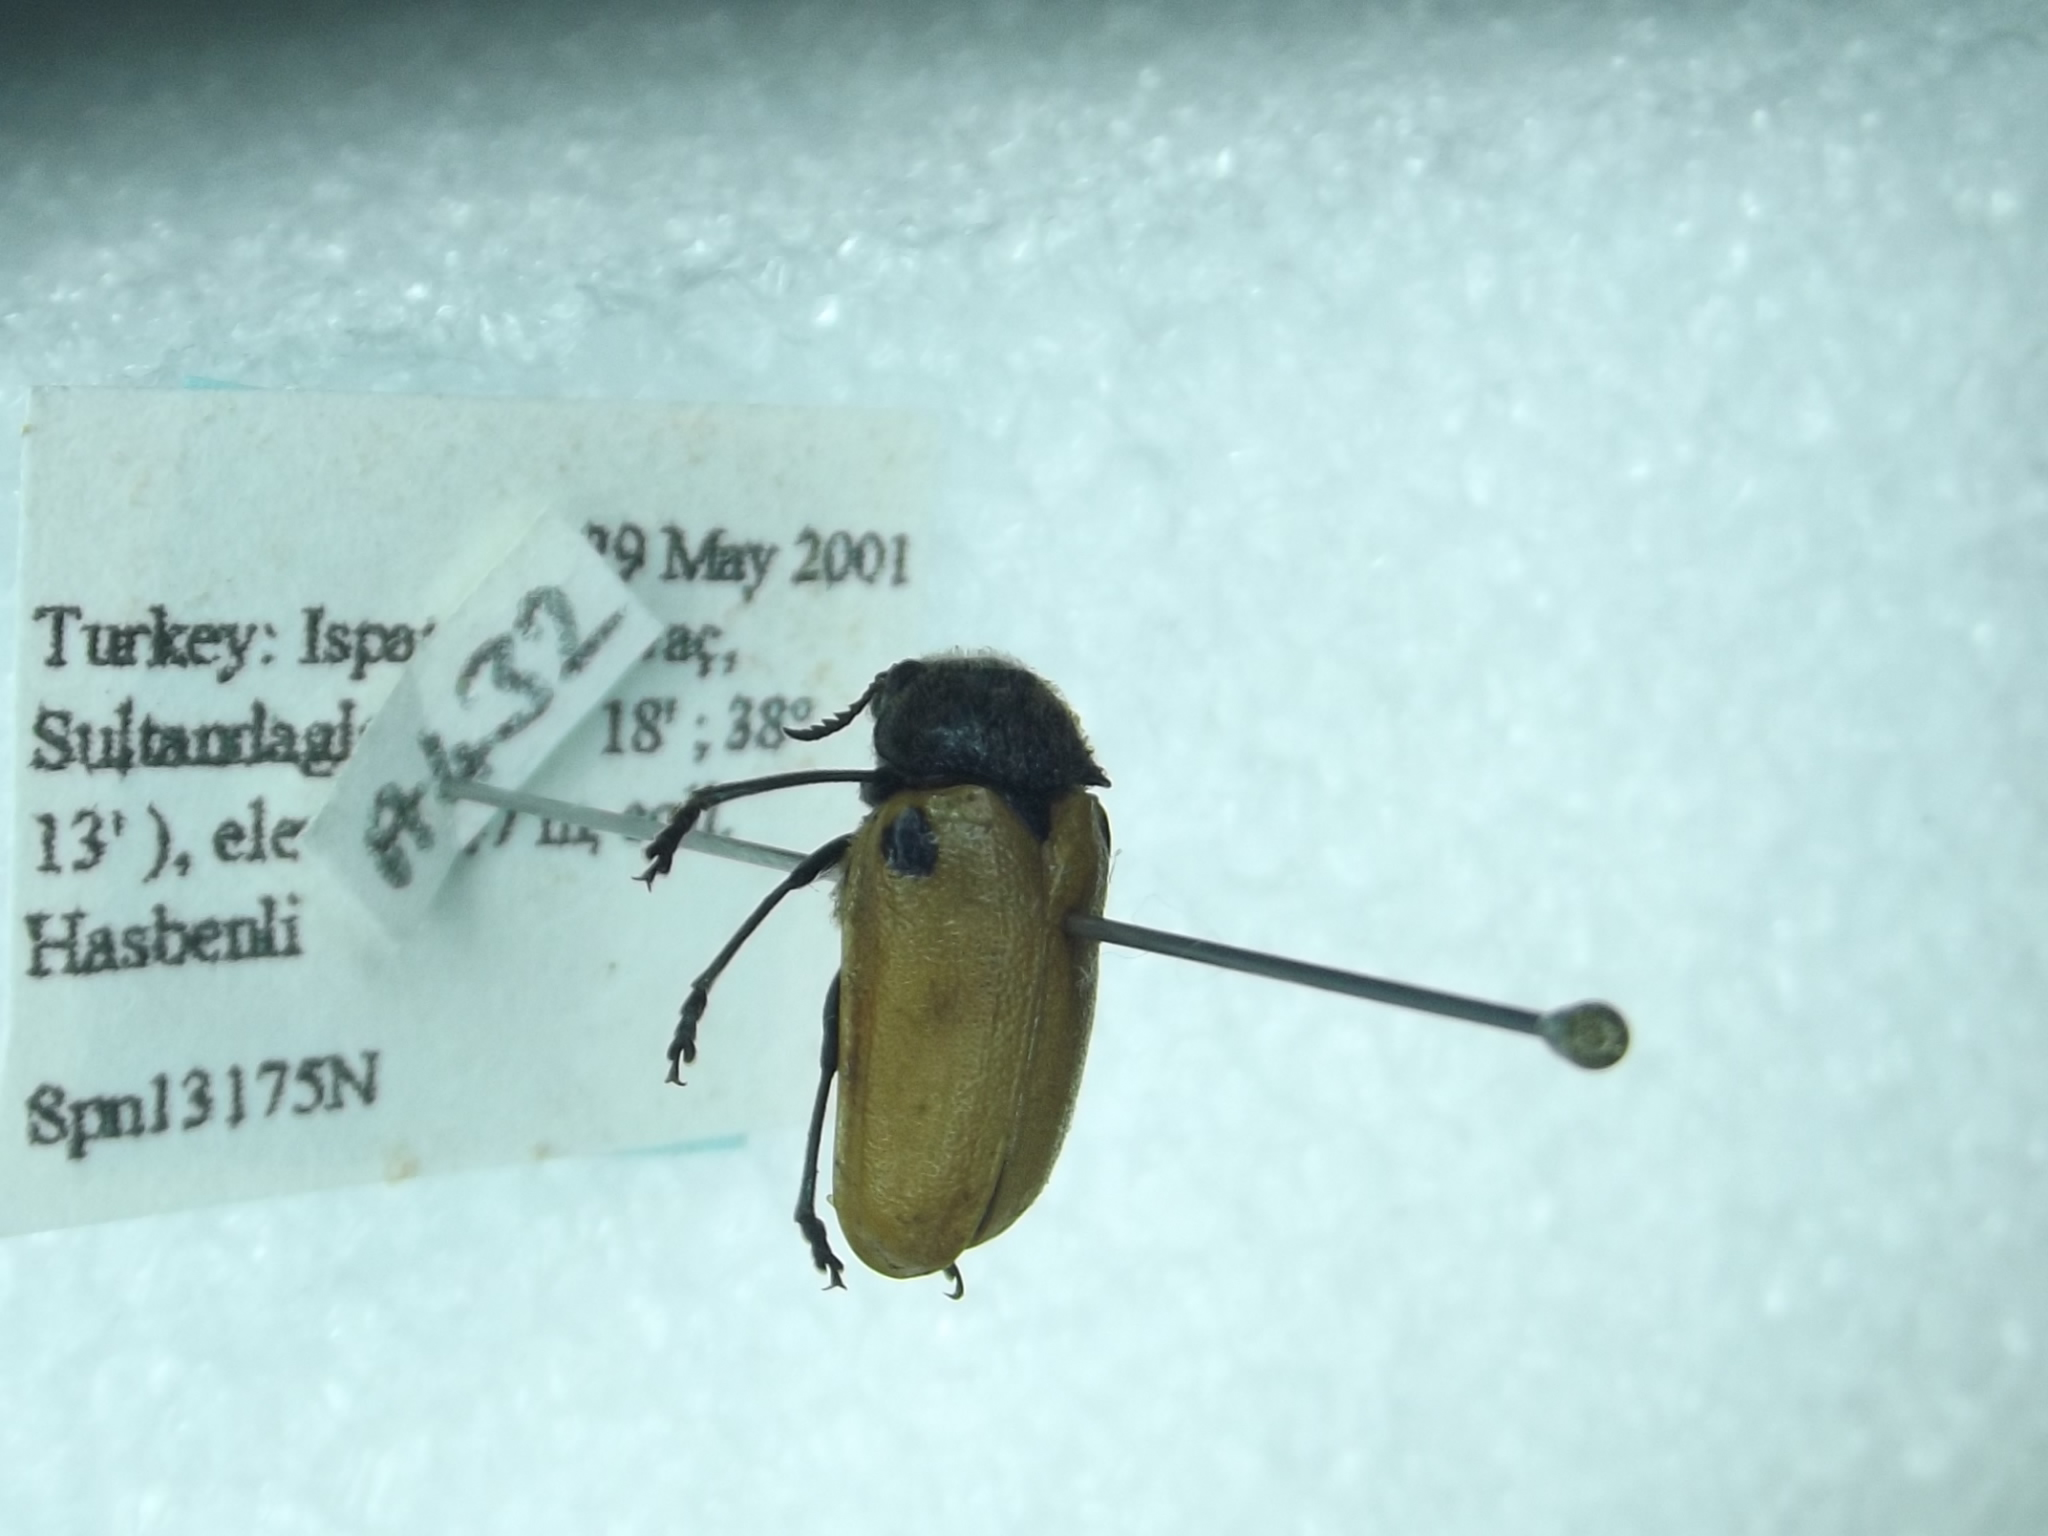Labidostomis_asiatica: (622, 628, 1121, 1325)
